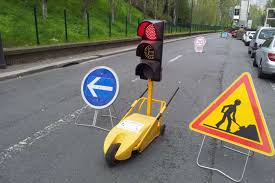obstacle: (190, 62, 275, 183), (103, 16, 167, 166), (74, 64, 121, 133), (193, 35, 207, 55)
